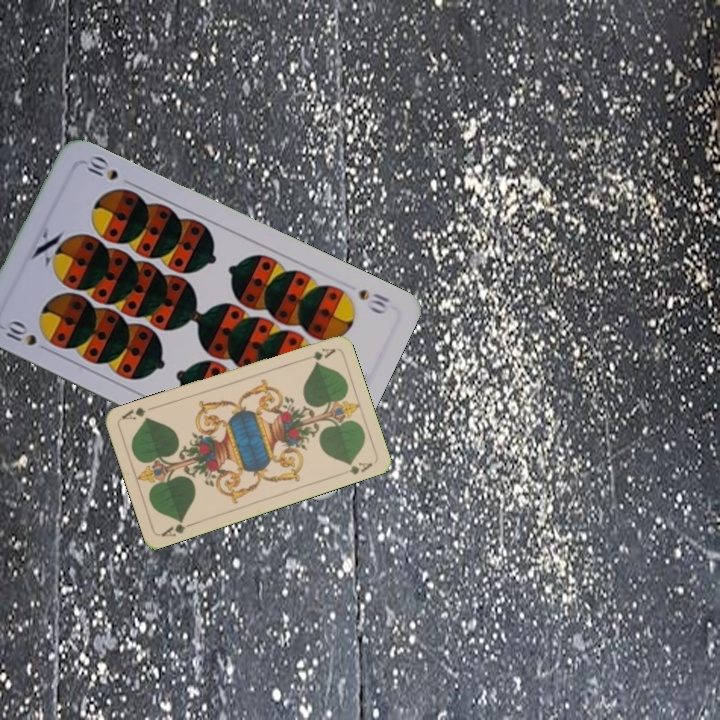GA: (157, 515, 197, 539), (298, 344, 338, 364)
S10: (1, 316, 54, 355), (354, 285, 392, 317)
